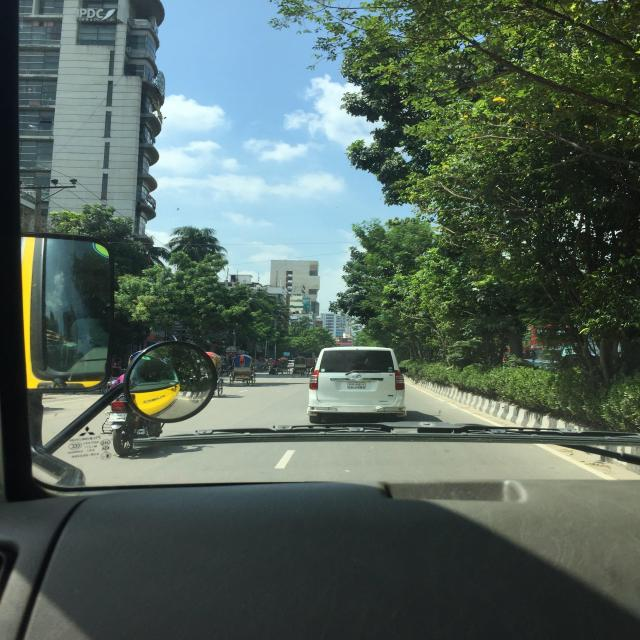white: (308, 349, 407, 418)
